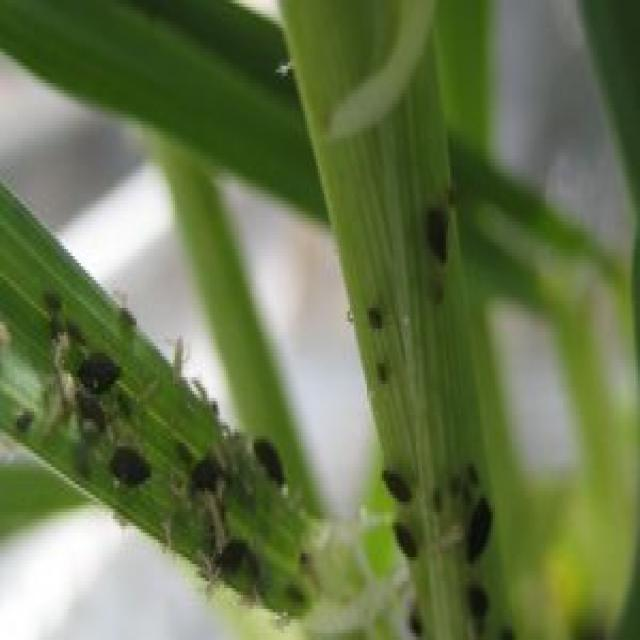Aphid-Grown-: (94, 426, 170, 518), (244, 420, 301, 518), (67, 339, 134, 417)
